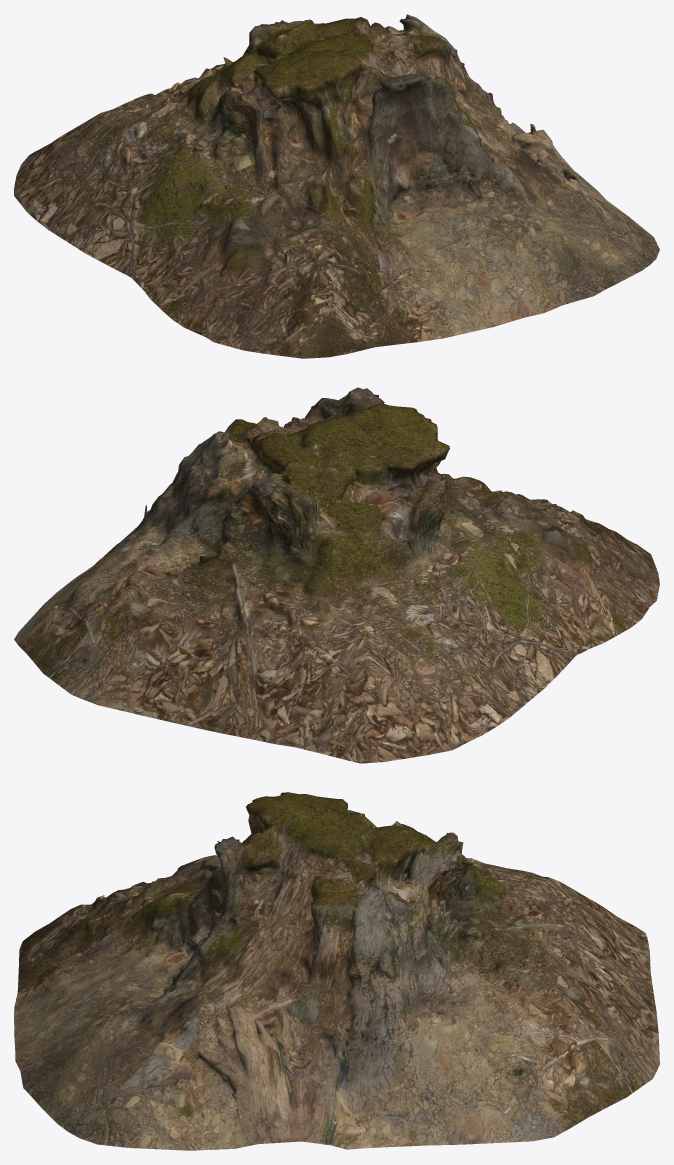
The model's file is tree_stump_01_preview.glb.
The picture shows the model from 3 angles, top to bottom: view 1: azimuth 30°, elevation 25°; view 2: azimuth 150°, elevation 25°; view 3: azimuth 270°, elevation 25°; orthographic projection. The views are drawn at different scales.
Visible parts, largest first — view 1: tree_stump_01; view 2: tree_stump_01; view 3: tree_stump_01.
Boxes of the visible parts, x1=… form: tree_stump_01: x1=14, y1=14, x2=659, y2=358; tree_stump_01: x1=14, y1=387, x2=659, y2=763; tree_stump_01: x1=14, y1=792, x2=659, y2=1150.
Size of the model in its own units: 1.43 by 0.5699 by 1.59.
1 material, 1 textured.
